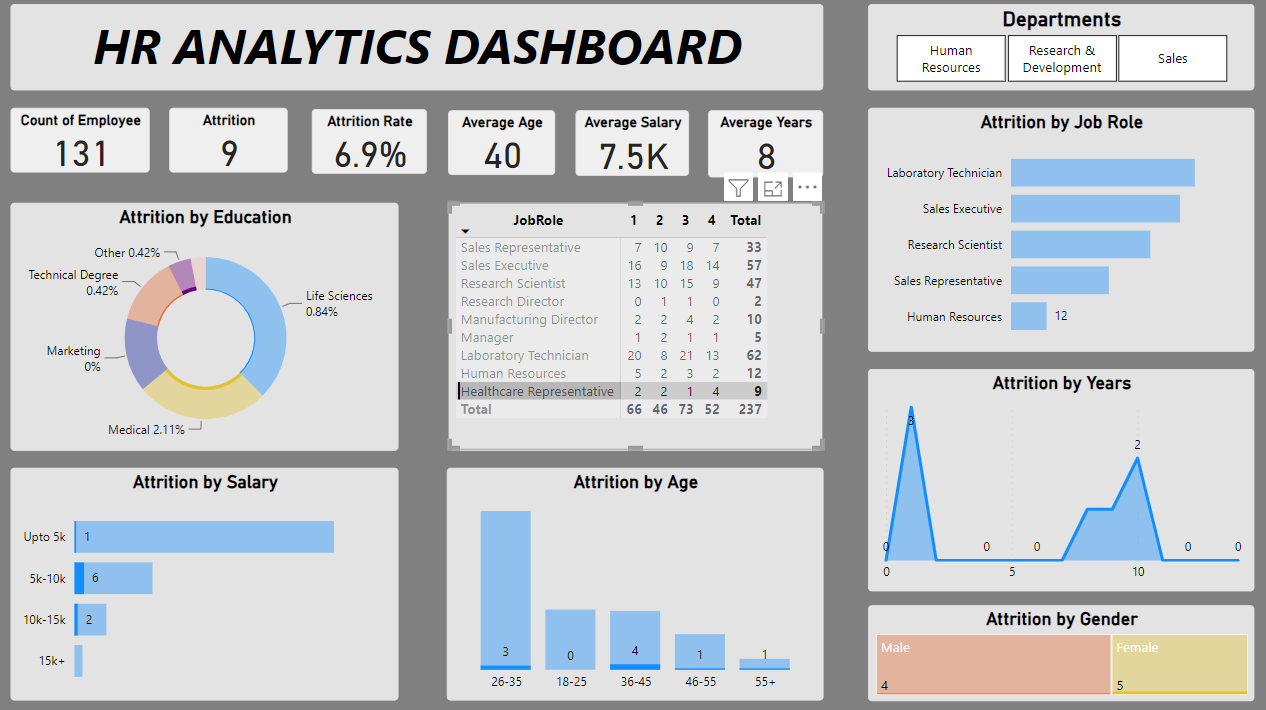

The page's visual inventory and layout, read from the dashboard file:
{"tool":"powerbi","page":{"name":"Page 1","canvas":[1280,720],"ordinal":0},"visuals":[{"type":"card","title":"Count of Employee","fields":{"Values":["CountNonNull(HR_Analytics.EmpID)"]},"box":[17,113.8,139.4,64.9],"z":0},{"type":"card","title":"Attrition","fields":{"Values":["Sum(HR_Analytics.AttritionCount)"]},"box":[176.6,113.8,118.1,64.9],"z":1000},{"type":"card","title":"Attrition Rate","fields":{"Values":["HR_Analytics.AttritionRate"]},"box":[319.1,114.9,114.9,64.9],"z":2000},{"type":"card","title":"Average Age ","fields":{"Values":["Avg(HR_Analytics.Age)"]},"box":[455.3,116,107.4,64.9],"z":3000},{"type":"card","title":"Average Salary","fields":{"Values":["Avg(HR_Analytics.MonthlyIncome)"]},"box":[583,116,113.8,66],"z":4000},{"type":"card","title":"Average Years ","fields":{"Values":["Avg(HR_Analytics.YearsAtCompany)"]},"box":[714.9,116,114.9,67],"z":5000},{"type":"donutChart","title":"Attrition by Education","fields":{"Category":["HR_Analytics.EducationField"],"Y":["Sum(HR_Analytics.AttritionCount)"]},"box":[17,208.5,388.3,247.9],"z":6000},{"type":"columnChart","title":"Attrition by Age","fields":{"Category":["HR_Analytics.AgeGroup"],"Y":["Sum(HR_Analytics.AttritionCount)"]},"box":[453.2,473.4,376.6,233],"z":7000},{"type":"pivotTable","fields":{"Rows":["HR_Analytics.JobRole"],"Columns":["HR_Analytics.JobSatisfaction"],"Values":["Sum(HR_Analytics.AttritionCount)"]},"box":[455.3,208.5,374.5,247.9],"z":8000},{"type":"barChart","title":"Attrition by Salary","fields":{"Category":["HR_Analytics.SalarySlab"],"Y":["Sum(HR_Analytics.AttritionCount)"]},"box":[17,473.4,388.3,233],"z":9000},{"type":"barChart","title":"Attrition by Job Role","fields":{"Category":["HR_Analytics.JobRole"],"Y":["Sum(HR_Analytics.AttritionCount)"]},"box":[875.5,113.8,386.2,243.6],"z":10000},{"type":"areaChart","title":"Attrition by Years","fields":{"Category":["HR_Analytics.YearsAtCompany"],"Y":["Sum(HR_Analytics.AttritionCount)"]},"box":[875,375,386.2,222.5],"z":11000},{"type":"treemap","title":"Attrition by Gender","fields":{"Group":["HR_Analytics.Gender"],"Values":["Sum(HR_Analytics.AttritionCount)"]},"box":[875.5,610.6,386.2,95.7],"z":12000},{"type":"slicer","title":"Departments","fields":{"Values":["HR_Analytics.Department"]},"box":[875.5,9.6,386.2,86.2],"z":13000},{"type":"textbox","box":[17,9.6,812.8,86.2],"z":14000}]}

Visuals, with their boxes in screenshot pixels (x1, y1, x2, y2), scaled from the page's 1280x720 canvas onto the 1266x710 screenshot:
"Count of Employee" card: rect(17, 112, 155, 176)
"Attrition" card: rect(175, 112, 291, 176)
"Attrition Rate" card: rect(316, 113, 429, 177)
"Average Age " card: rect(450, 114, 557, 178)
"Average Salary" card: rect(577, 114, 689, 179)
"Average Years " card: rect(707, 114, 821, 180)
"Attrition by Education" donutChart: rect(17, 206, 401, 450)
"Attrition by Age" columnChart: rect(448, 467, 821, 697)
pivotTable - HR_Analytics.JobRole x HR_Analytics.JobSatisfaction: rect(450, 206, 821, 450)
"Attrition by Salary" barChart: rect(17, 467, 401, 697)
"Attrition by Job Role" barChart: rect(866, 112, 1248, 352)
"Attrition by Years" areaChart: rect(865, 370, 1247, 589)
"Attrition by Gender" treemap: rect(866, 602, 1248, 696)
"Departments" slicer: rect(866, 9, 1248, 94)
textbox: rect(17, 9, 821, 94)
